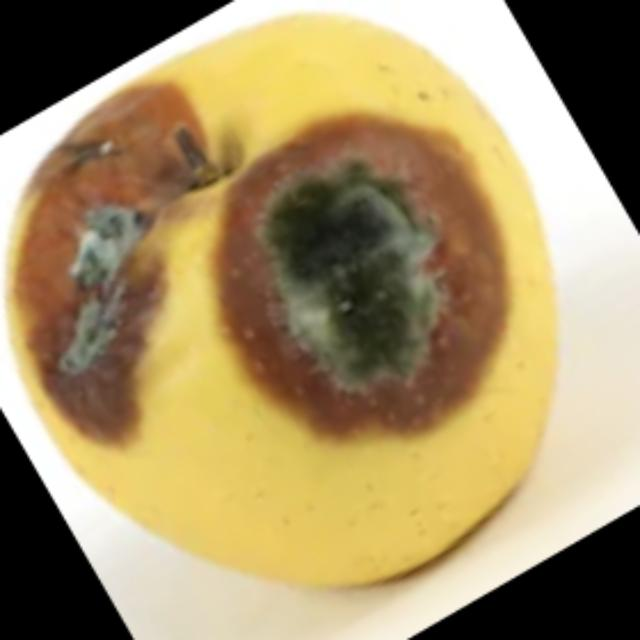Apel Tidak Segar: (12, 20, 594, 602)
